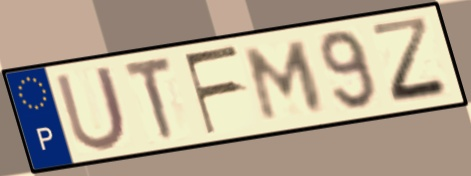9: (317, 28, 382, 113)
F: (180, 42, 246, 138)
M: (243, 37, 328, 124)
T: (121, 53, 178, 145)
U: (51, 62, 130, 154)
Z: (366, 13, 455, 106)
